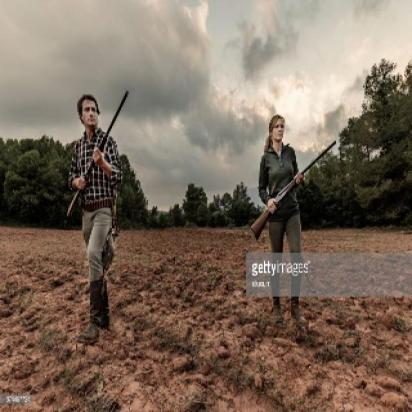Gun: (57, 84, 135, 220), (247, 135, 336, 238)
